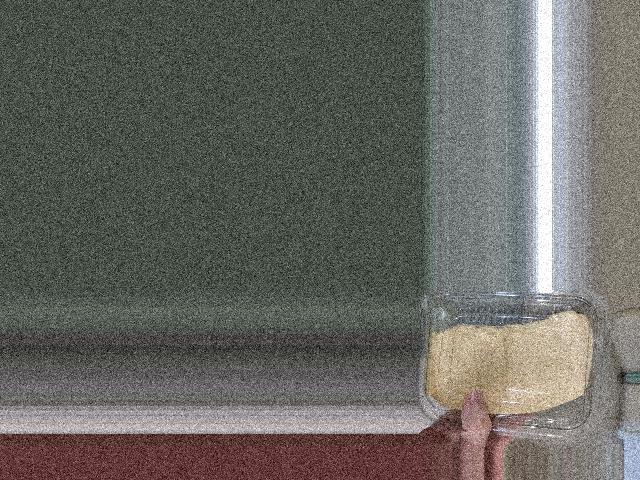cheese: (417, 289, 611, 423)
